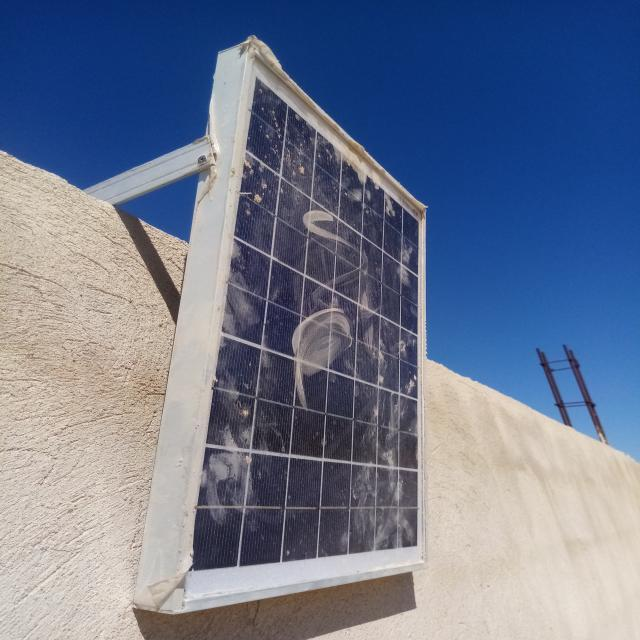faulty: (185, 49, 429, 609)
